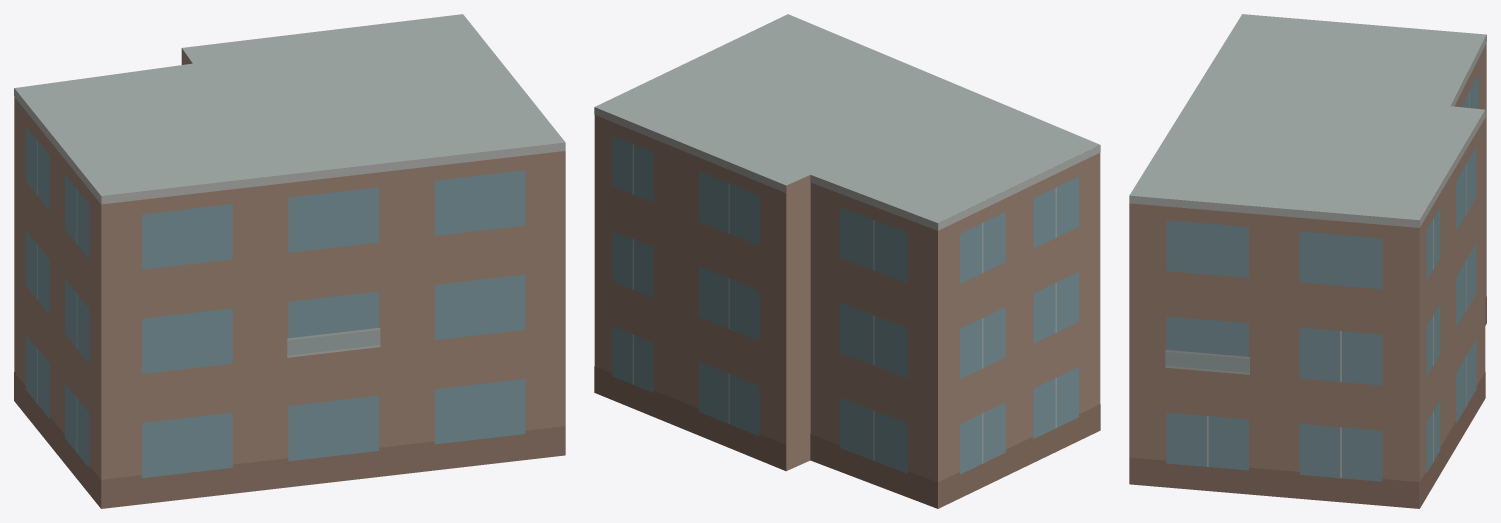
File: survey-upis-32492654.glb
3 views of the same model, side by side, from view 1: azimuth 30°, elevation 25°; view 2: azimuth 150°, elevation 25°; view 3: azimuth 270°, elevation 25° (orthographic). The views are drawn at different scales.
Parts seen in each view (by area): view 1: survey-upis-32492654.tmp; view 2: survey-upis-32492654.tmp; view 3: survey-upis-32492654.tmp.
Part boxes in pixels (bbox=[...]): survey-upis-32492654.tmp: bbox=[14, 14, 565, 508]; survey-upis-32492654.tmp: bbox=[594, 14, 1100, 508]; survey-upis-32492654.tmp: bbox=[1129, 14, 1486, 508].
Size of the model in its own units: 14.03 by 9.15 by 10.28.
